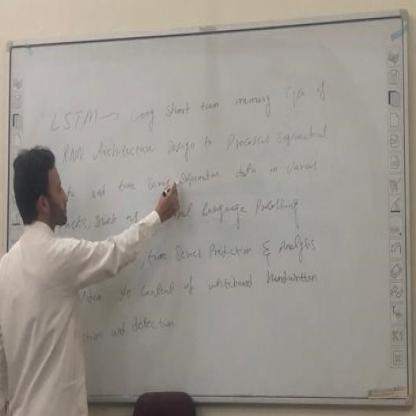Handwritten text: (42, 71, 338, 140), (51, 119, 338, 167), (79, 149, 327, 203), (92, 185, 319, 234), (117, 268, 327, 305), (138, 231, 323, 272)
Lecturer: (8, 141, 101, 414)
Whiteboard: (7, 9, 410, 404)
